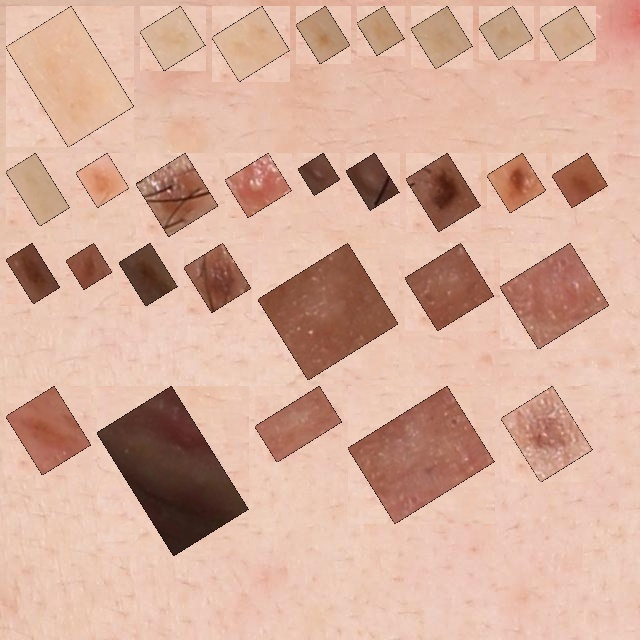hypertrophic_scar: (108, 397, 237, 545), (359, 397, 483, 512), (269, 254, 387, 369), (511, 254, 598, 338), (416, 254, 483, 320), (266, 397, 331, 451)
melasma: (17, 17, 123, 136), (17, 397, 80, 464), (223, 17, 279, 70), (17, 164, 59, 215), (151, 17, 194, 59), (422, 17, 461, 58), (307, 17, 339, 53), (551, 17, 585, 49), (490, 17, 522, 48), (368, 17, 393, 44)
nevus: (512, 397, 581, 471), (147, 164, 207, 225), (417, 164, 469, 221), (195, 254, 240, 301), (498, 164, 535, 202), (17, 254, 49, 293), (563, 164, 597, 196), (87, 164, 118, 196), (77, 254, 101, 278)
pustule: (236, 164, 281, 206), (357, 164, 388, 199), (309, 164, 329, 184)
